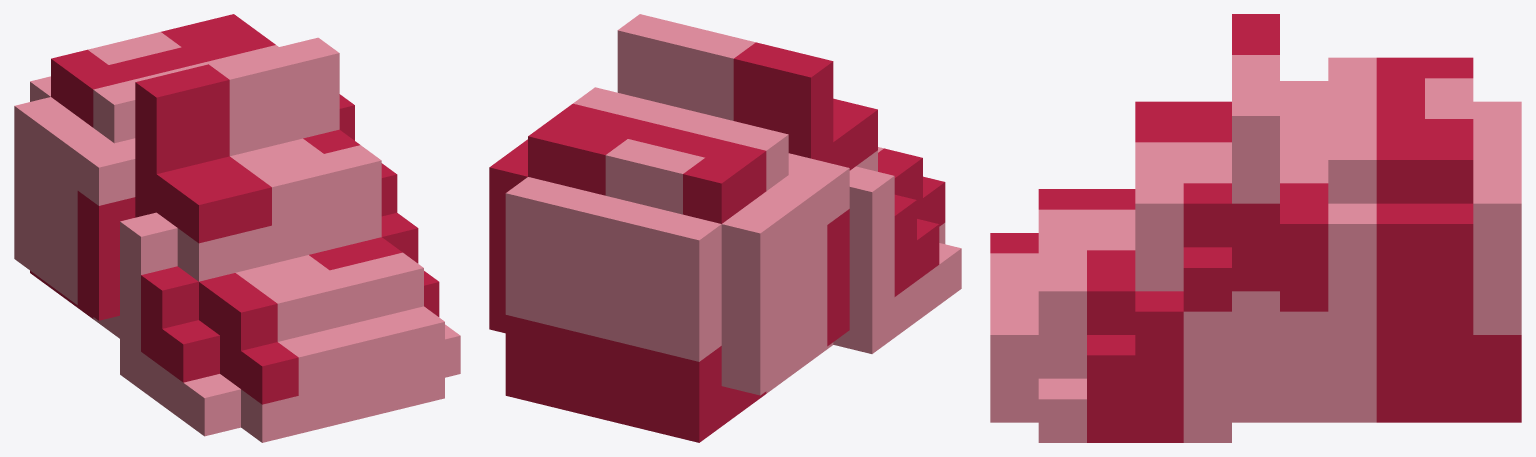
Rendered from randomshard2.gltf.
The picture shows the model from 3 angles, left to right: view 1: azimuth 30°, elevation 25°; view 2: azimuth 150°, elevation 25°; view 3: azimuth 270°, elevation 25°; orthographic projection. The views are drawn at different scales.
Visible parts, largest first — view 1: Object_0; view 2: Object_0; view 3: Object_0.
Boxes of the visible parts, left/top/right/bottom form: Object_0: left=14, top=14, right=460, bottom=442; Object_0: left=489, top=14, right=961, bottom=442; Object_0: left=990, top=14, right=1521, bottom=442.
Size of the model in its own units: 0.7 by 0.7 by 1.1.
1 material, 1 textured.
